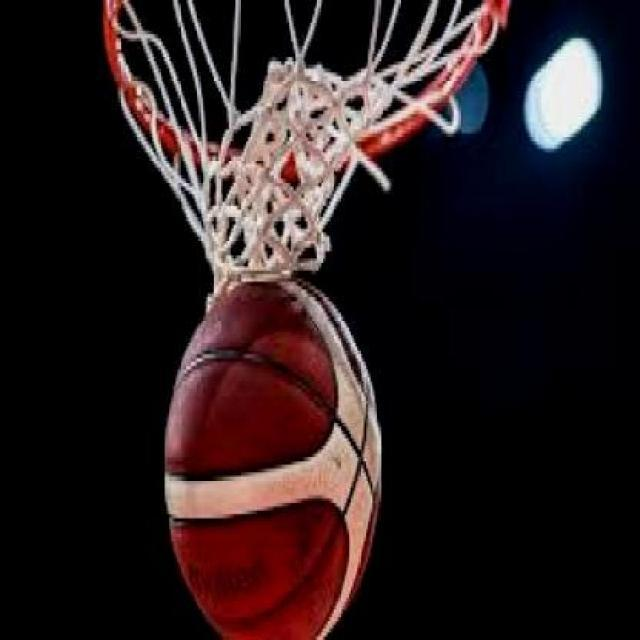Ball: (163, 278, 382, 640)
